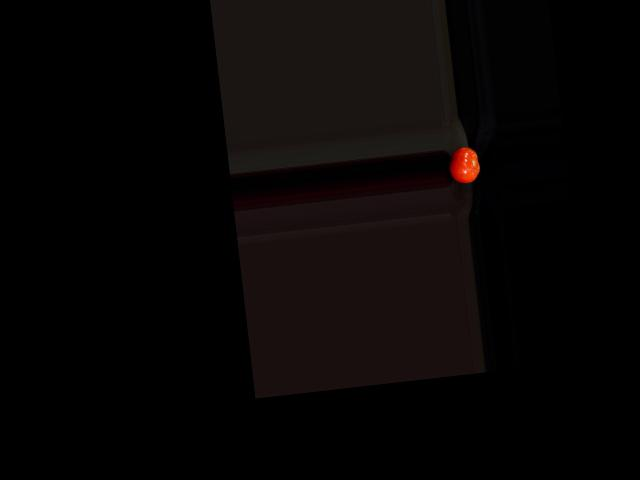tomato: (447, 146, 481, 185)
